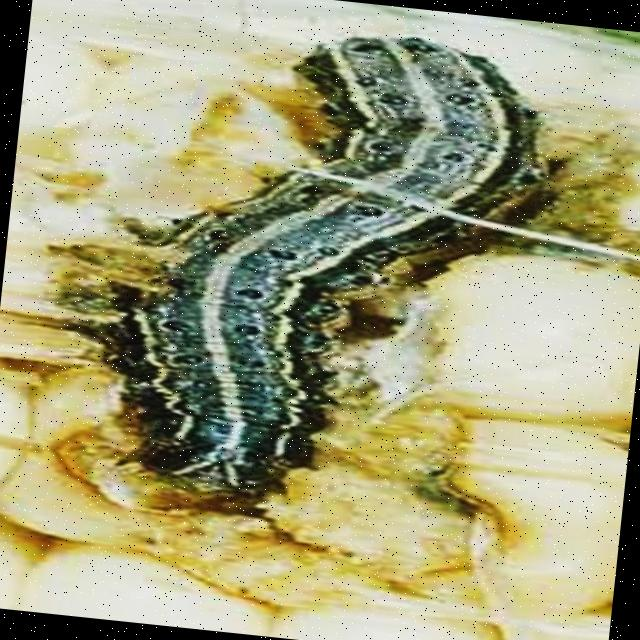worm: (73, 3, 569, 549)
